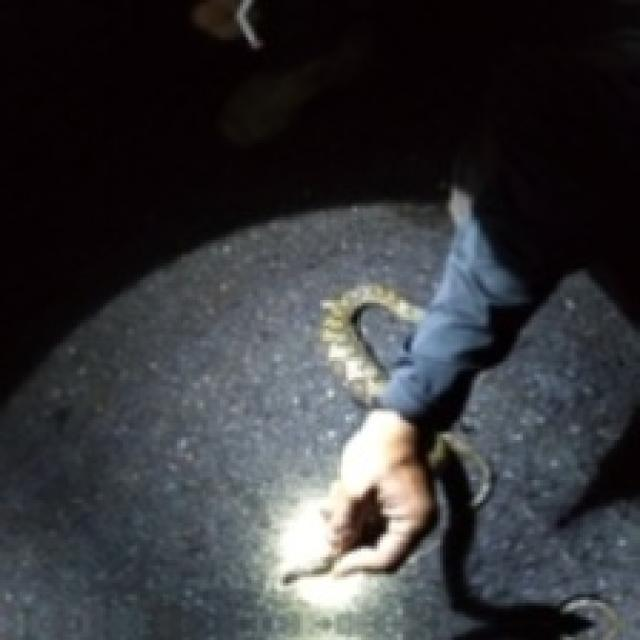reticulated python: (320, 283, 423, 406), (430, 432, 492, 508)
